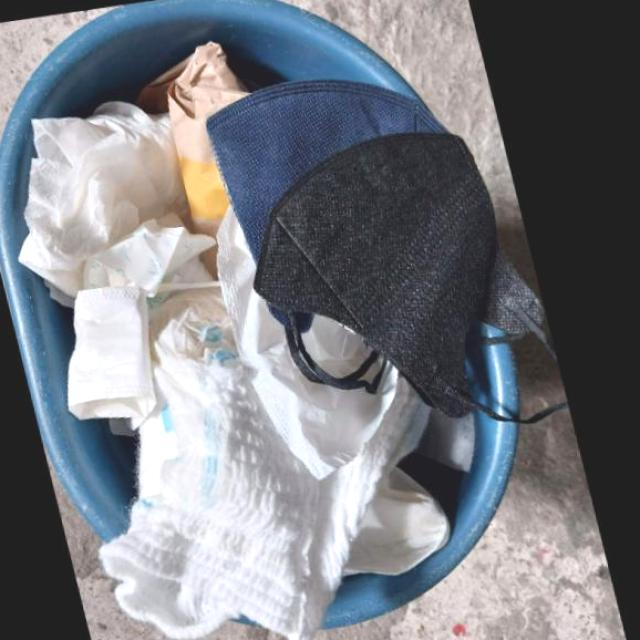giay: (26, 103, 226, 301), (147, 43, 262, 240), (73, 287, 163, 439)
khau_trang: (261, 134, 576, 428), (216, 80, 462, 267)
